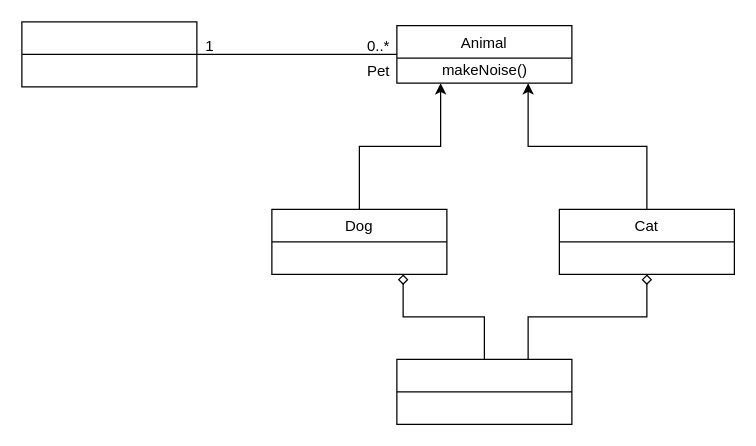
Some shapes in this 756 by 446 pixel diagram are drawn without their labels. Each missing label, with the box of its shape:
House: (21, 21, 197, 87)
Name: (396, 358, 572, 424)
